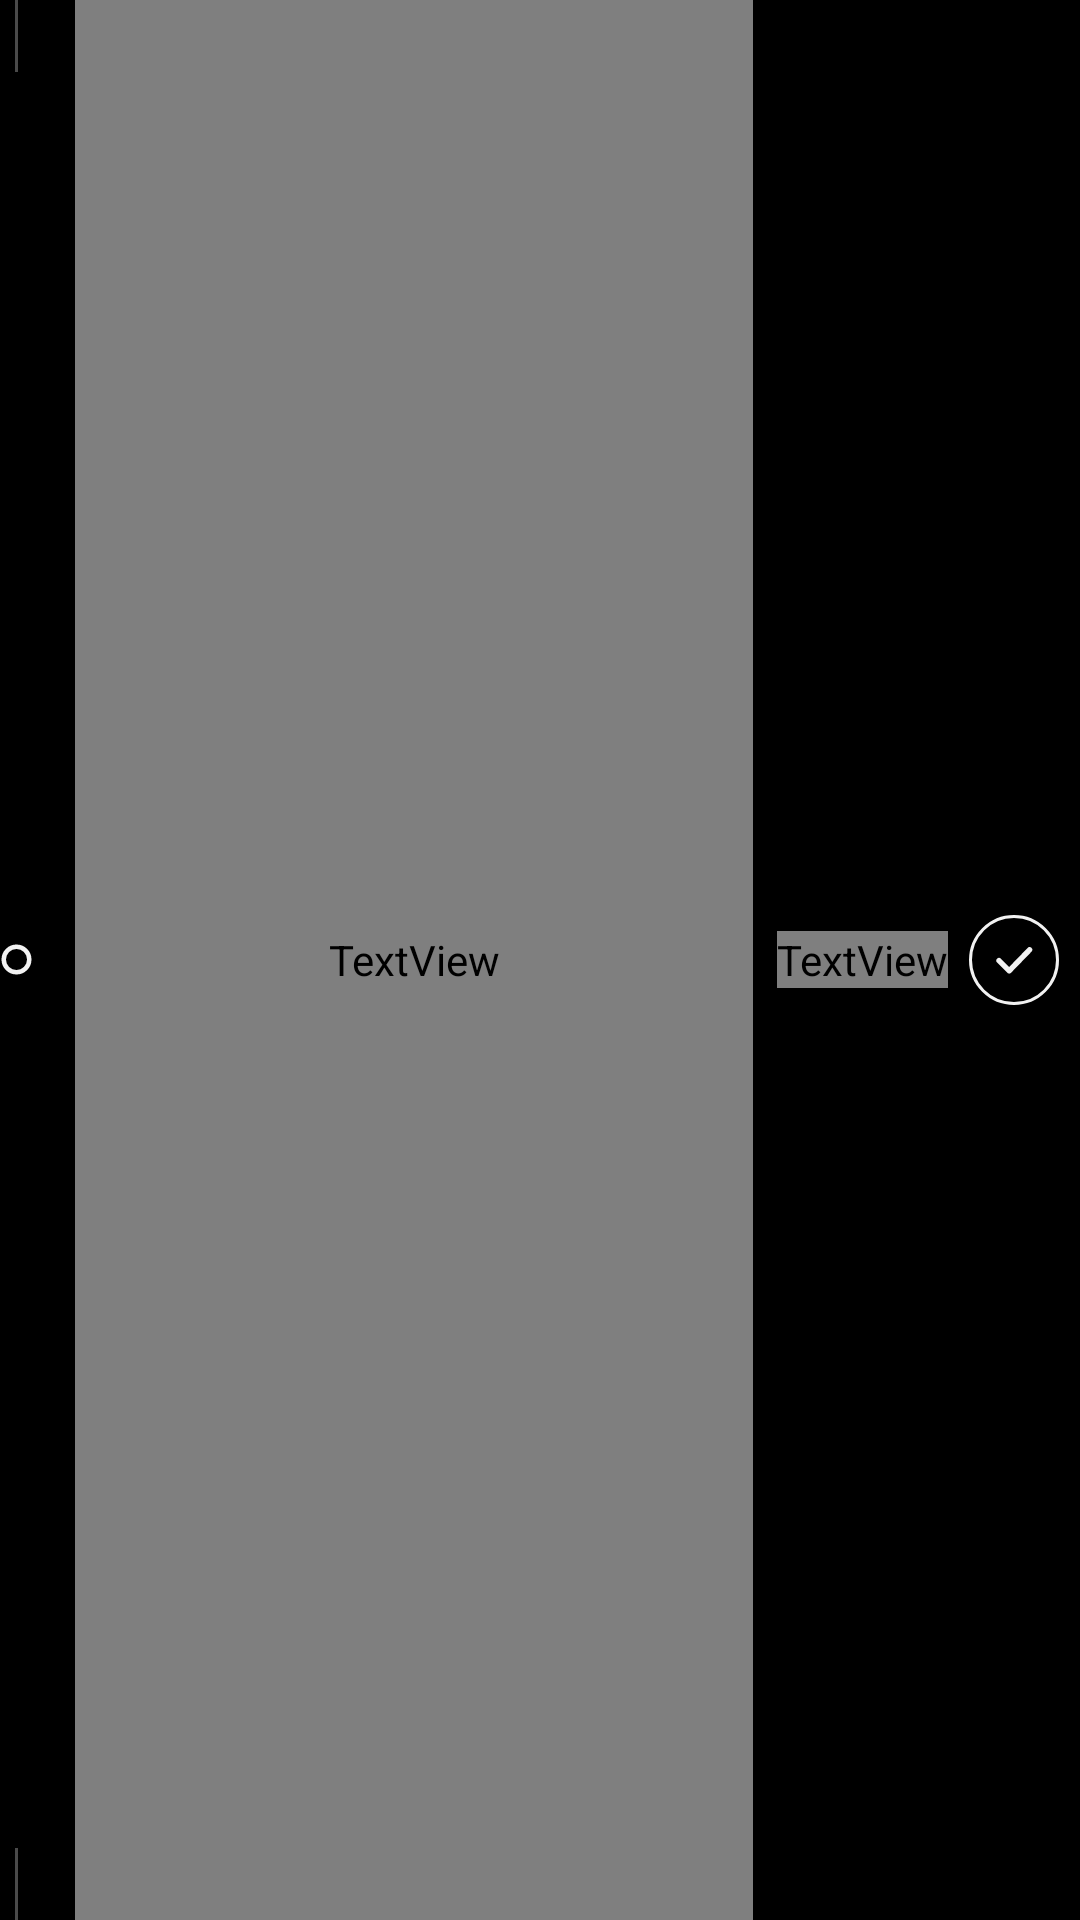

Icons on this 1080 × 1920 Android screen, each with the point to tap as point (x, y):
check: point (1014, 960)
node open: point (16, 959)
